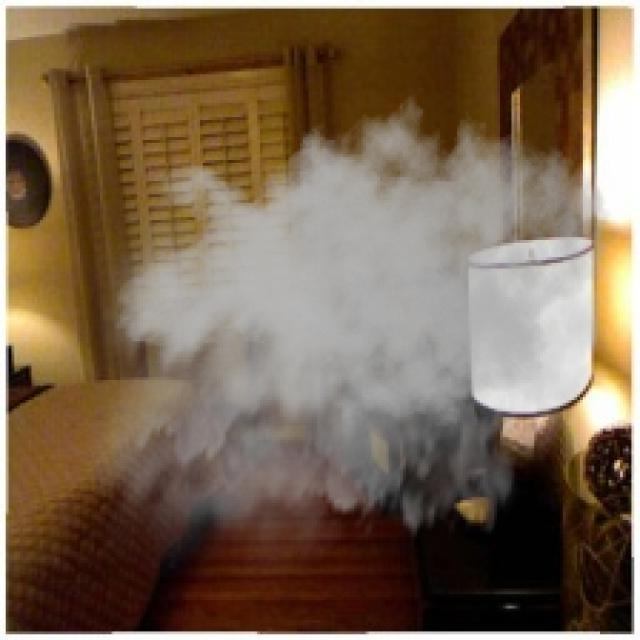Smoke: (66, 80, 612, 594)
